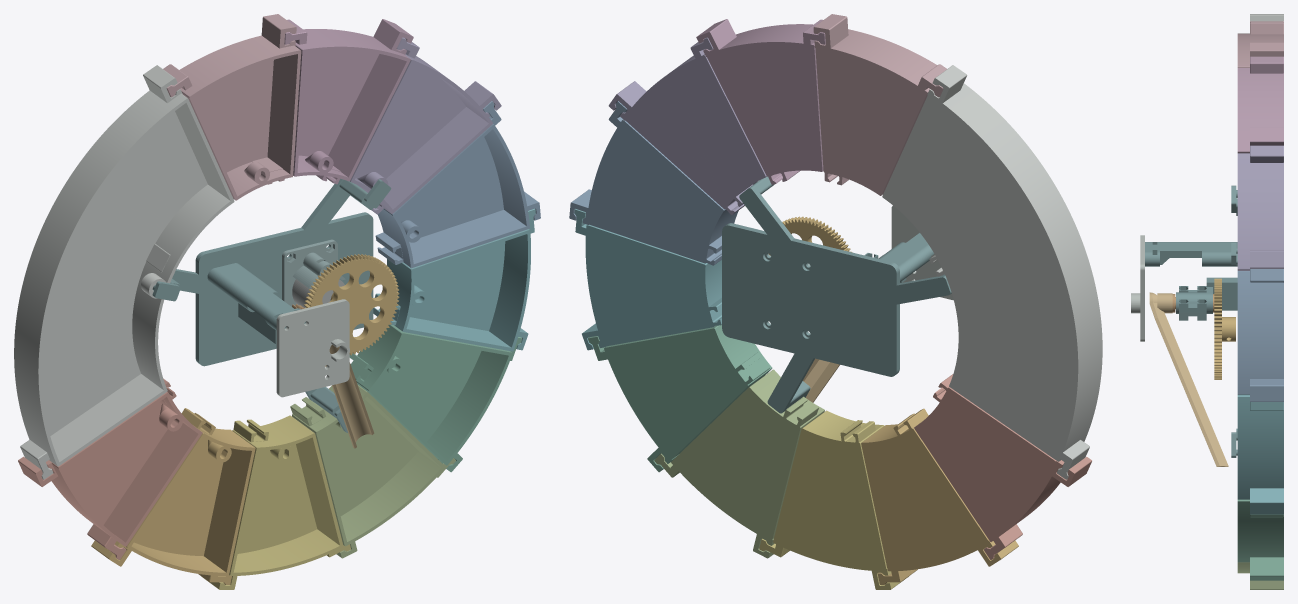
Rendered from VIEW_ONLY_operating.glb.
3 views of the same model, side by side, from view 1: azimuth 30°, elevation 25°; view 2: azimuth 150°, elevation 25°; view 3: azimuth 270°, elevation 25° (orthographic). The views are drawn at different scales.
Parts seen in each view (by area): view 1: bin_90, base_with_docking, bin_27_10, bin_27_09, bin_27_05, bin_27_03, bin_27_01, bin_27_07, bin_27_02, bin_27_06, bin_27_08, bin_27_04 (+4 smaller); view 2: bin_90, base_with_docking, bin_27_10, bin_27_09, bin_27_05, bin_27_03, bin_27_04, bin_27_01, bin_27_02, bin_27_06, bin_27_07, bin_27_08 (+3 smaller); view 3: bin_27_07, bin_27_08, bin_27_06, bin_27_09, base_with_docking, bin_27_05, smooth_u_chute, bin_27_10, drive80, REFERENCE_existing_middle_plate, bin_27_04, bearing_cap (+1 smaller).
Boxes of the visible parts, x1,y1,x2,y2 form: bin_90: [14, 65, 234, 479]; base_with_docking: [152, 178, 391, 432]; bin_27_10: [163, 14, 301, 200]; bin_27_09: [284, 19, 413, 184]; bin_27_05: [349, 325, 522, 472]; bin_27_03: [201, 415, 350, 589]; bin_27_01: [18, 378, 202, 559]; bin_27_07: [375, 101, 540, 268]; bin_27_02: [91, 408, 255, 584]; bin_27_06: [373, 208, 535, 351]; bin_27_08: [350, 37, 501, 214]; bin_27_04: [290, 385, 455, 558]; bin_90: [882, 65, 1102, 479]; base_with_docking: [722, 176, 951, 413]; bin_27_10: [813, 14, 946, 195]; bin_27_09: [696, 19, 825, 184]; bin_27_05: [588, 325, 772, 472]; bin_27_03: [759, 410, 908, 589]; bin_27_04: [654, 369, 824, 558]; bin_27_01: [914, 374, 1091, 559]; bin_27_02: [861, 408, 1018, 584]; bin_27_06: [574, 208, 721, 350]; bin_27_07: [569, 101, 738, 265]; bin_27_08: [608, 37, 766, 214]; bin_27_07: [1237, 269, 1283, 401]; bin_27_08: [1237, 145, 1283, 270]; bin_27_06: [1237, 394, 1283, 514]; bin_27_09: [1237, 56, 1283, 153]; base_with_docking: [1145, 185, 1237, 457]; bin_27_05: [1237, 499, 1283, 580]; smooth_u_chute: [1149, 292, 1228, 466]; bin_27_10: [1237, 21, 1283, 67]; drive80: [1214, 278, 1235, 379]; REFERENCE_existing_middle_plate: [1131, 235, 1144, 341]; bin_27_04: [1237, 562, 1283, 589]; bearing_cap: [1176, 307, 1212, 320].
Size of the model in its own units: 362 by 373 by 99.
